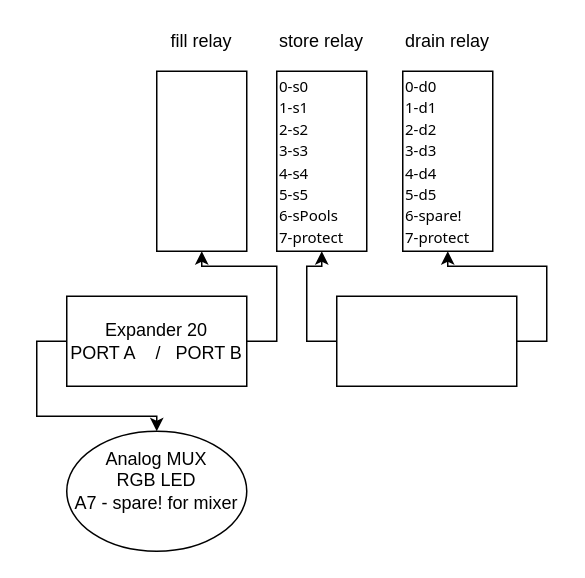
Some shapes in this 585 by 578 pixel diagram are drawn without their labels. The centre of each missing label's shape, as x and y in pixels:
"0-f0 1-f1 2-f2 3-f3 4-f4 5-f5 6-pump 7-protect" belongs at (x=201, y=160).
"Expander 21 PORT A / PORT B" belongs at (x=426, y=340).
